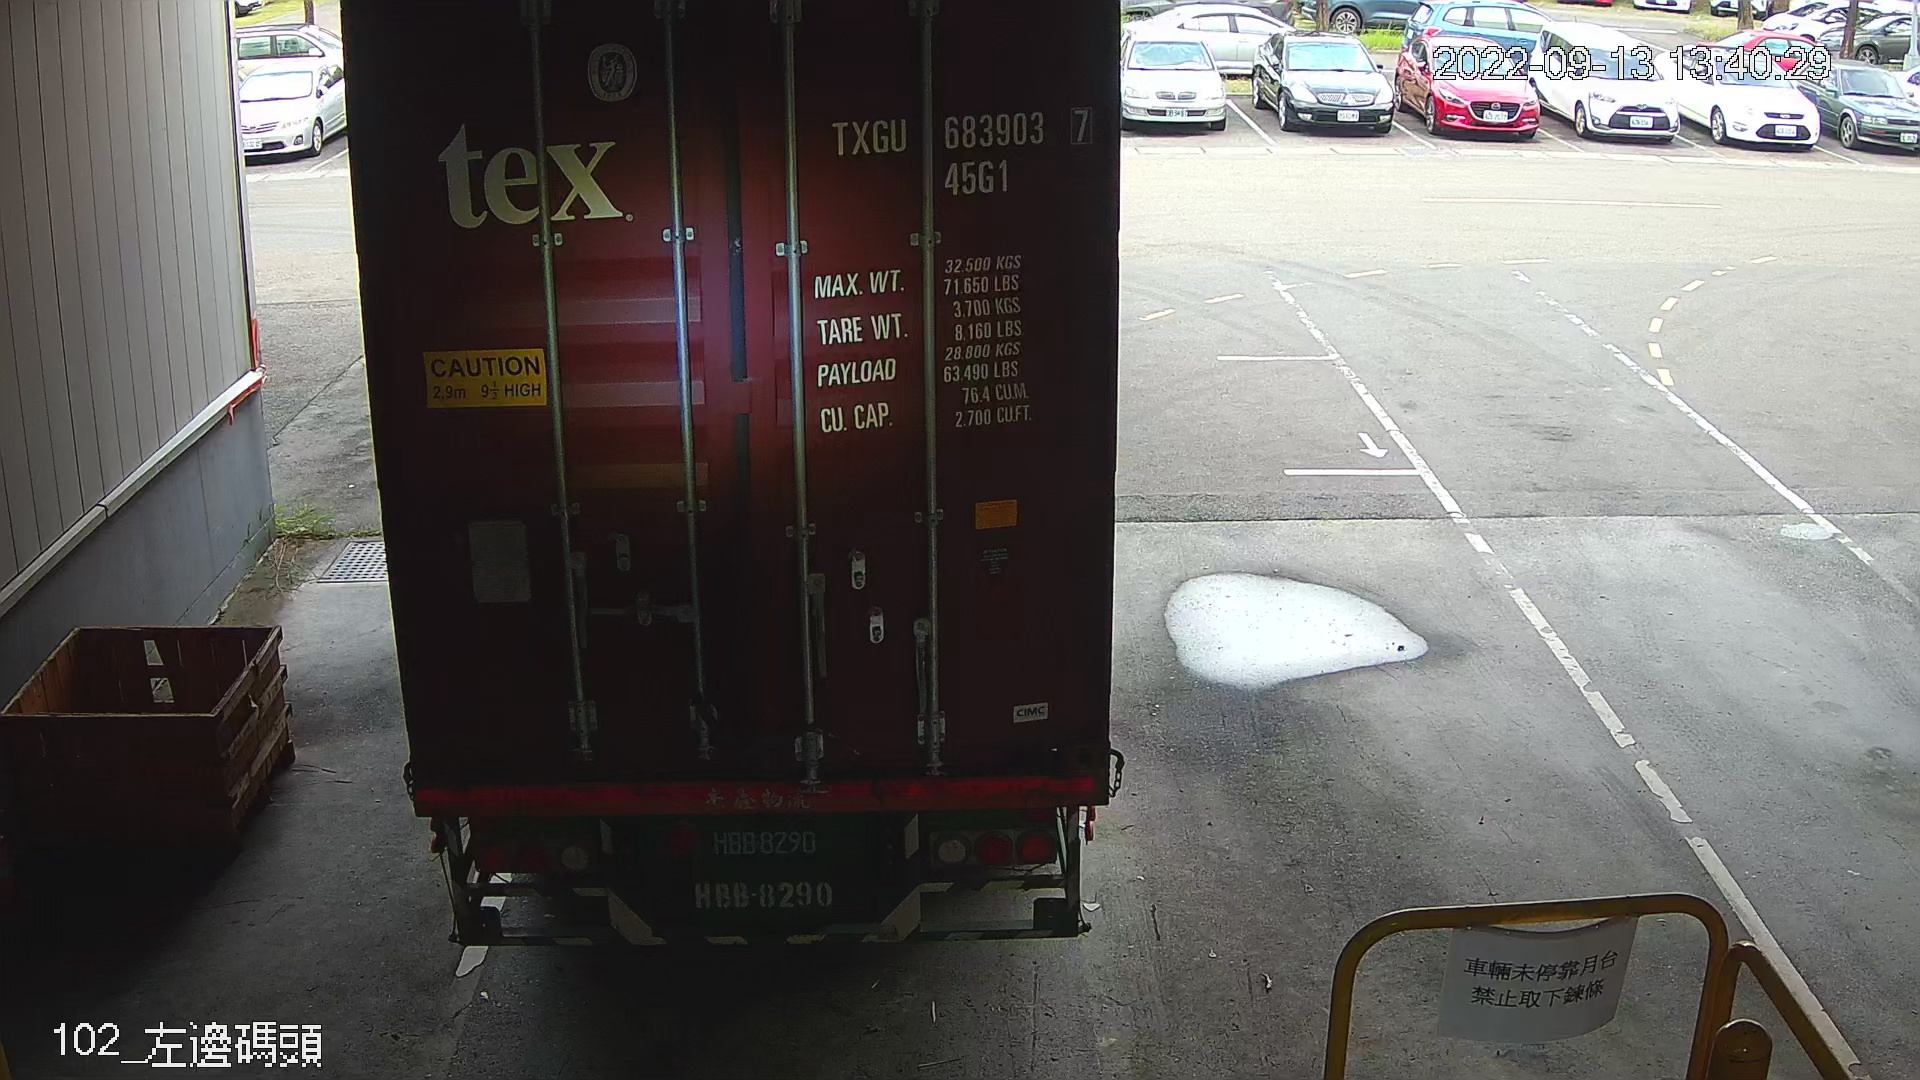container: (819, 99, 1101, 207)
